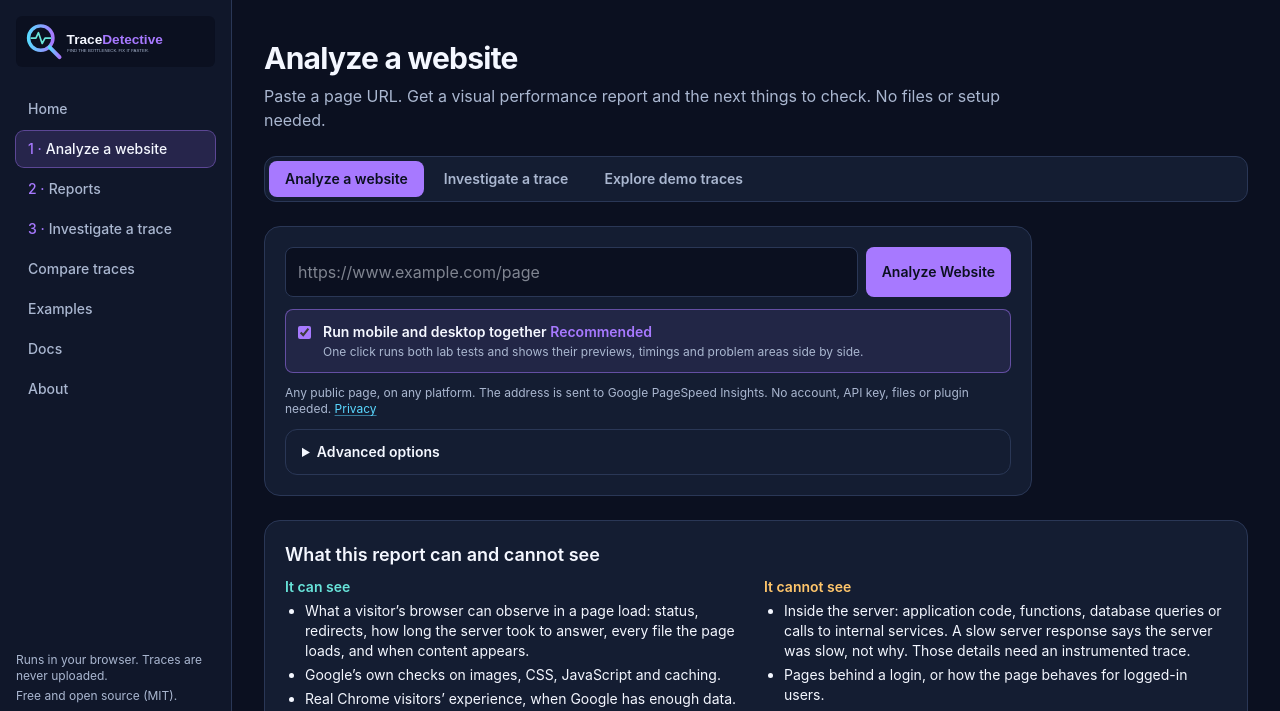
website analysis › explains a used-up quota and shows no empty results
Type "example.com" into the field named "Website URL" at (571, 272), box [285,247,858,297]
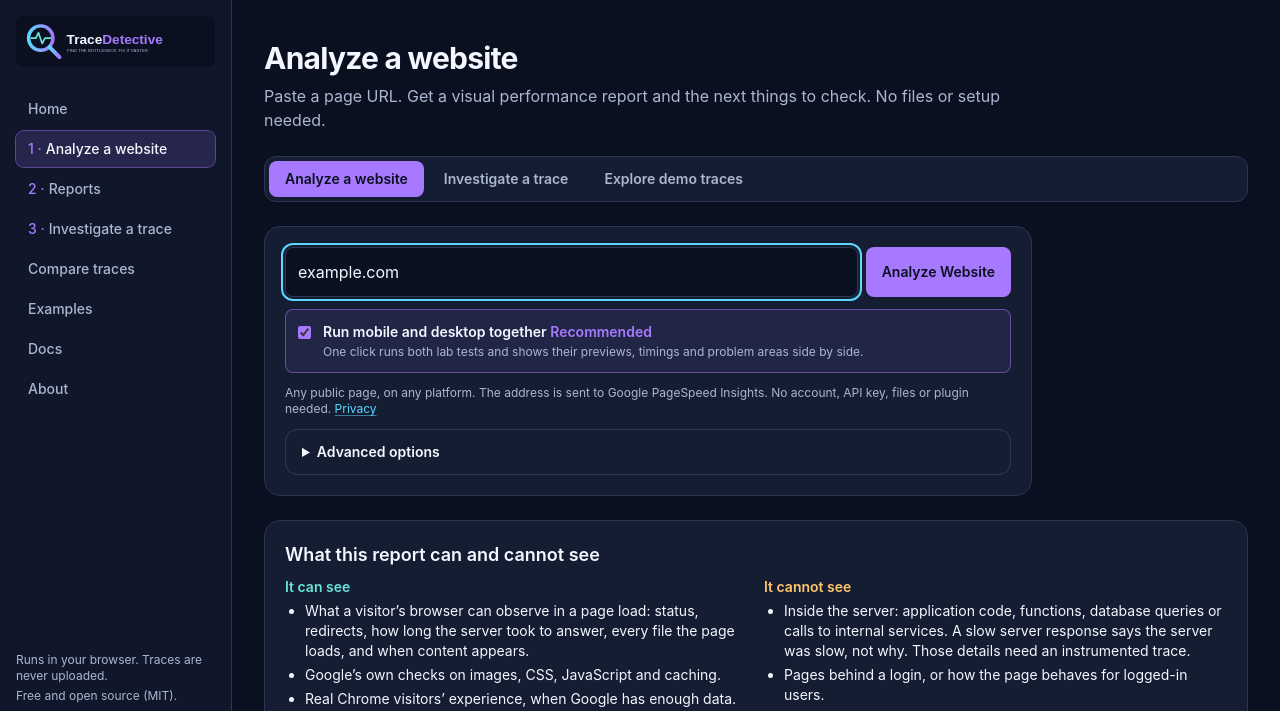
Click the button "Analyze Website" at (938, 272), box [866,247,1011,297]
(page scrolled)
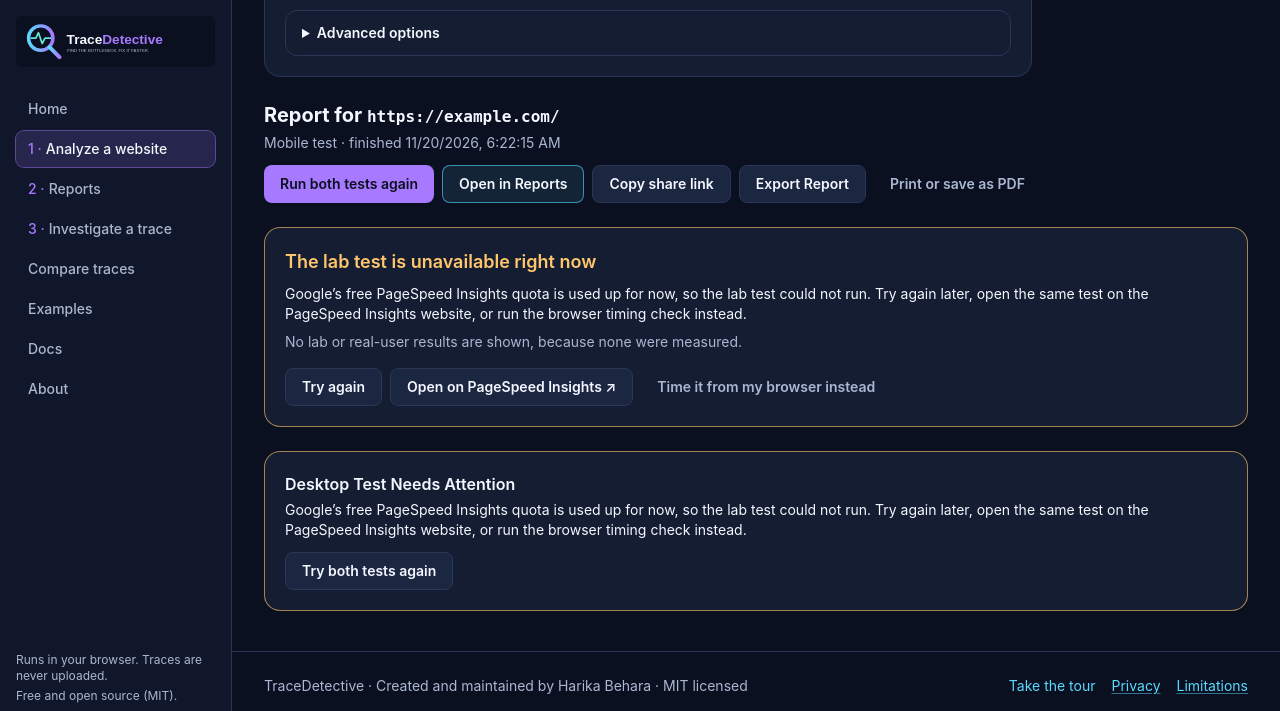
Now the heading "The lab test is unavailable right now" is shown, box [285,251,596,272]
Now the text "quota is used up" below "The lab test is unavailable right now" is shown, box [285,285,1149,322]
Now the text "No lab or real-user results are shown, because none were measured" is shown, box [285,333,742,350]
